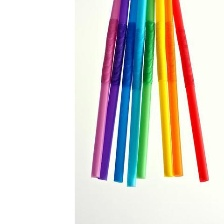drinking_straw: (168, 0, 214, 186), (88, 0, 122, 181)
